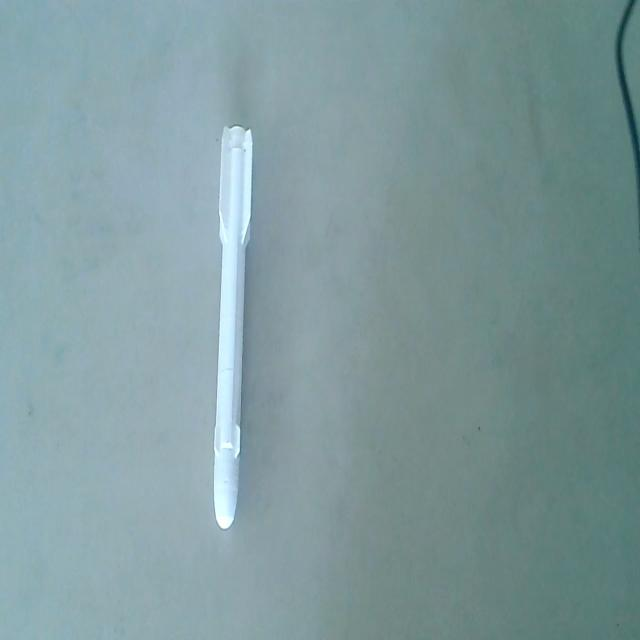Rocket: (212, 122, 255, 538)
